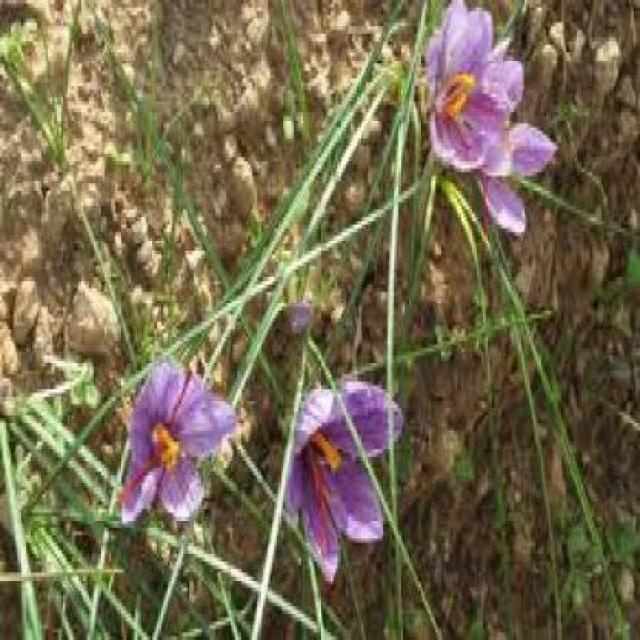saffron open: (286, 381, 404, 583), (121, 363, 235, 520), (426, 0, 522, 176)
